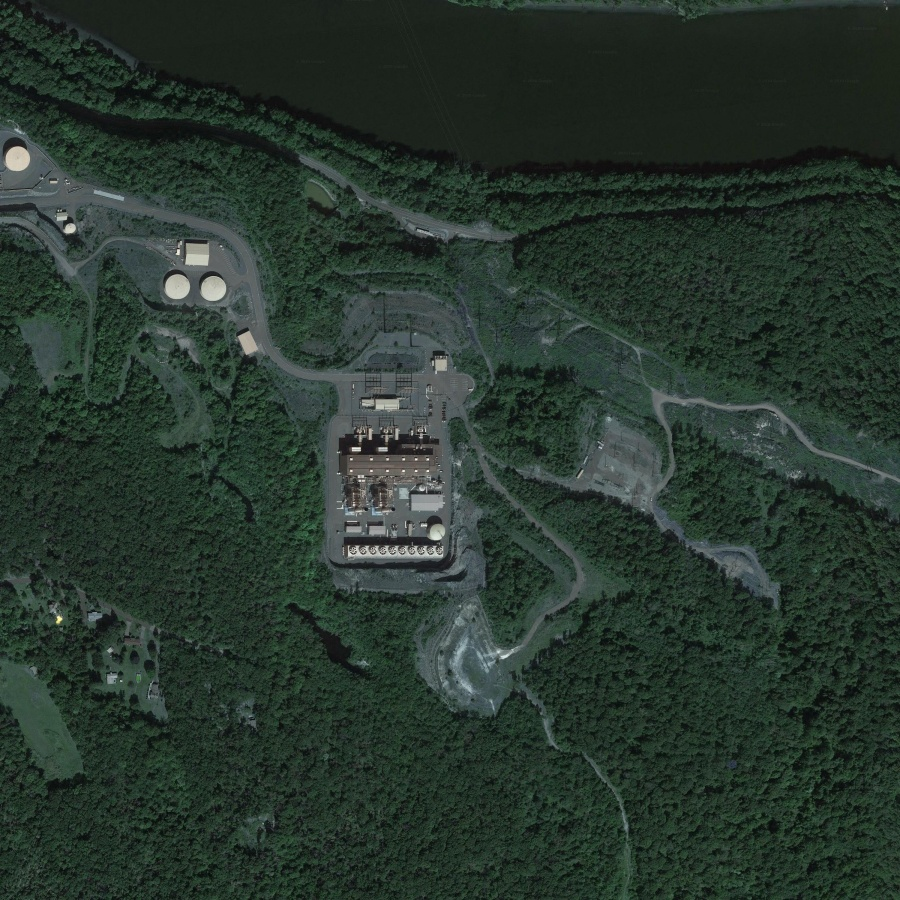PowerPlant: (330, 335, 476, 575)
